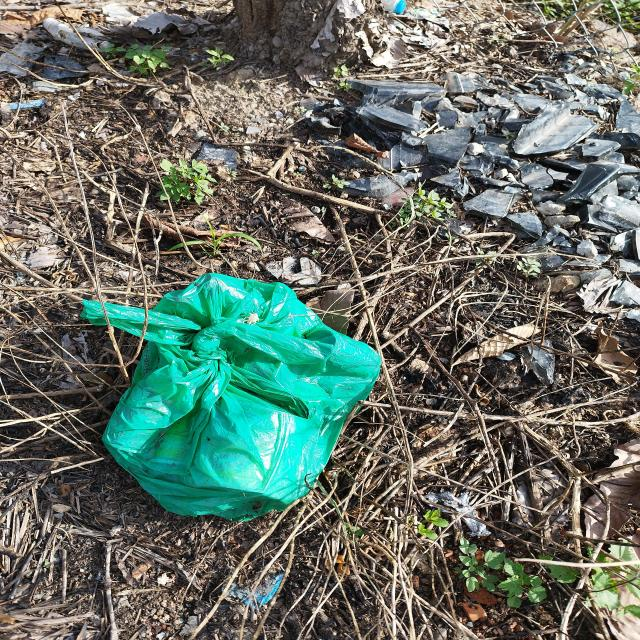trash bag: (82, 272, 381, 522)
